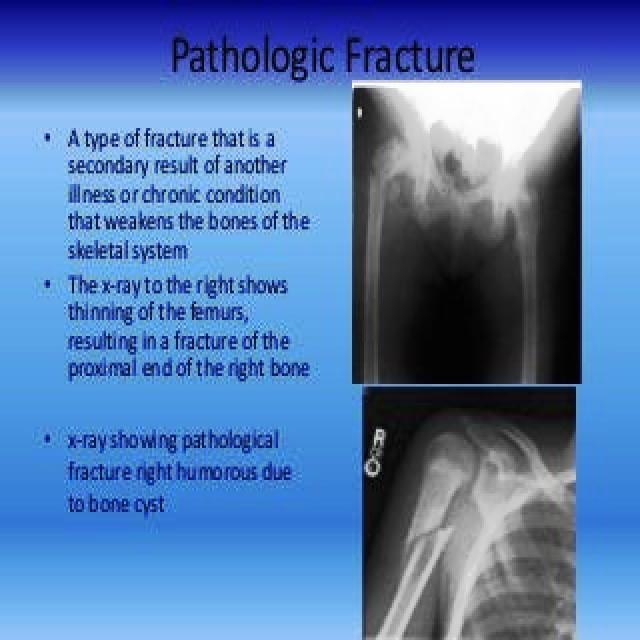Fracture Dislocation: (406, 514, 451, 566)
